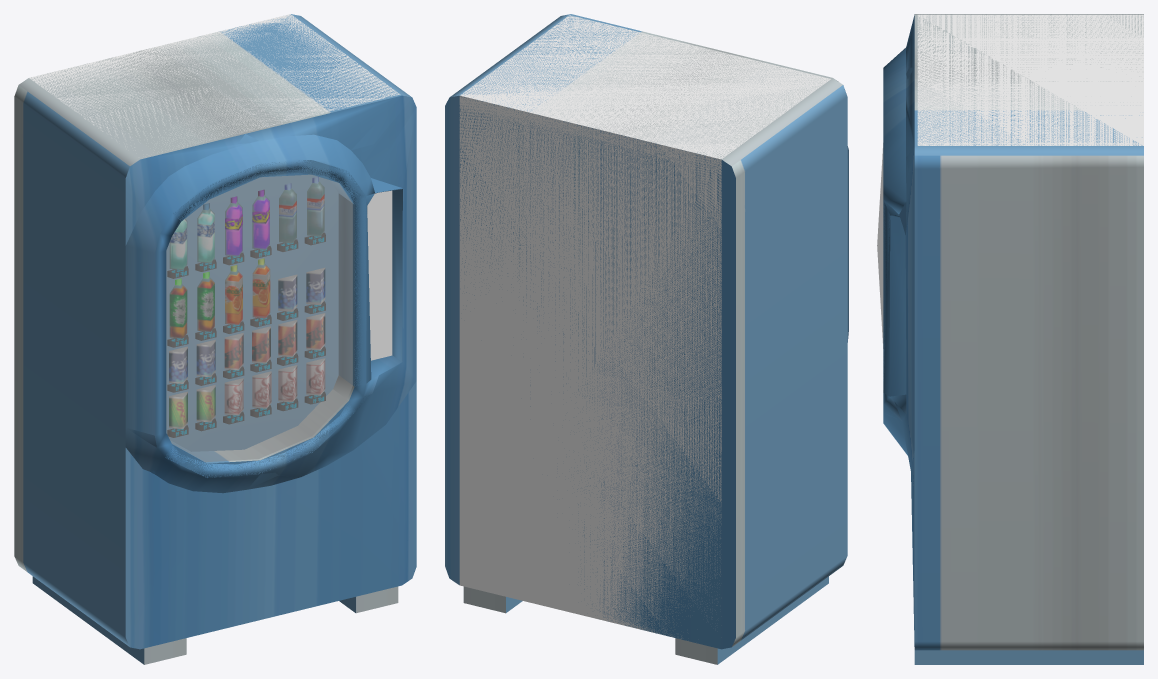
Rendered from objects_un_drinkmachine01.gltf.
3 renders of one model, left to right at view 1: azimuth 30°, elevation 25°; view 2: azimuth 150°, elevation 25°; view 3: azimuth 270°, elevation 25°, orthographic. The views are drawn at different scales.
Parts seen in each view (by area): view 1: um_objects_un_drinkmachine01_model_lod0Shape:objects_un_drin (×4), um_objects_un_drinkmachine01_model_lod1Shape:objects_un_drin (×3); view 2: um_objects_un_drinkmachine01_model_lod0Shape:objects_un_drin (×2); view 3: um_objects_un_drinkmachine01_model_lod0Shape:objects_un_drin (×3), um_objects_un_drinkmachine01_model_lod1Shape:objects_un_drin (×2).
Boxes of the visible parts, <box> form: um_objects_un_drinkmachine01_model_lod0Shape:objects_un_drin (×4): <box>14,14,416,664</box>; um_objects_un_drinkmachine01_model_lod1Shape:objects_un_drin (×3): <box>125,95,416,649</box>; um_objects_un_drinkmachine01_model_lod0Shape:objects_un_drin (×2): <box>445,14,848,664</box>; um_objects_un_drinkmachine01_model_lod0Shape:objects_un_drin (×3): <box>877,14,1143,664</box>; um_objects_un_drinkmachine01_model_lod1Shape:objects_un_drin (×2): <box>877,67,914,646</box>.
Size of what is drawn, in the model's own units: 1.21 by 2.01 by 0.9341.
Materials: 4 (3 with a texture image).
